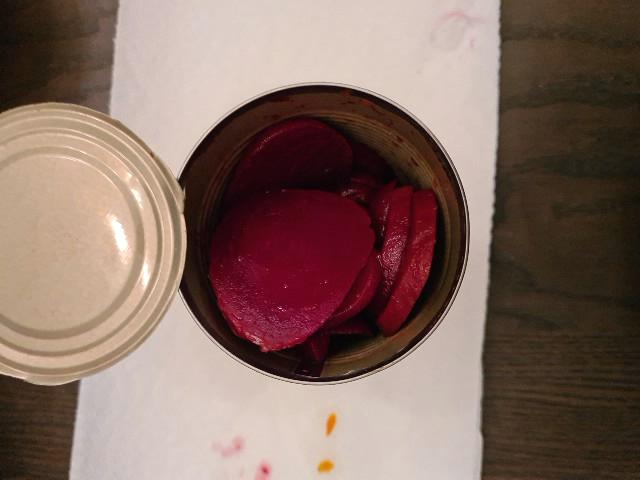kichen waste: (209, 120, 439, 353)
